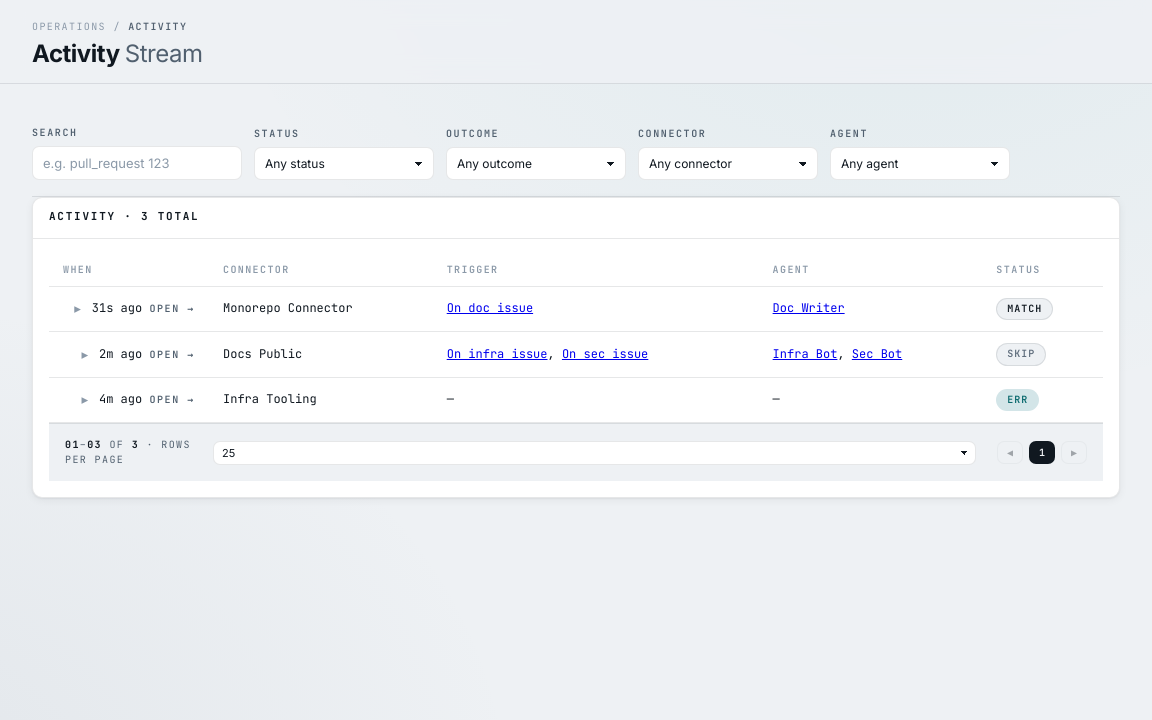
Test: Activity › search is case-insensitive
The width and height of the screenshot is (1152, 720).
Check: the link with aria-label "Open event e1" is shown, box [49, 286, 1103, 332]
Type "PULL_REQUEST" into the field named "search events" at point(137, 163), box [32, 146, 242, 180]
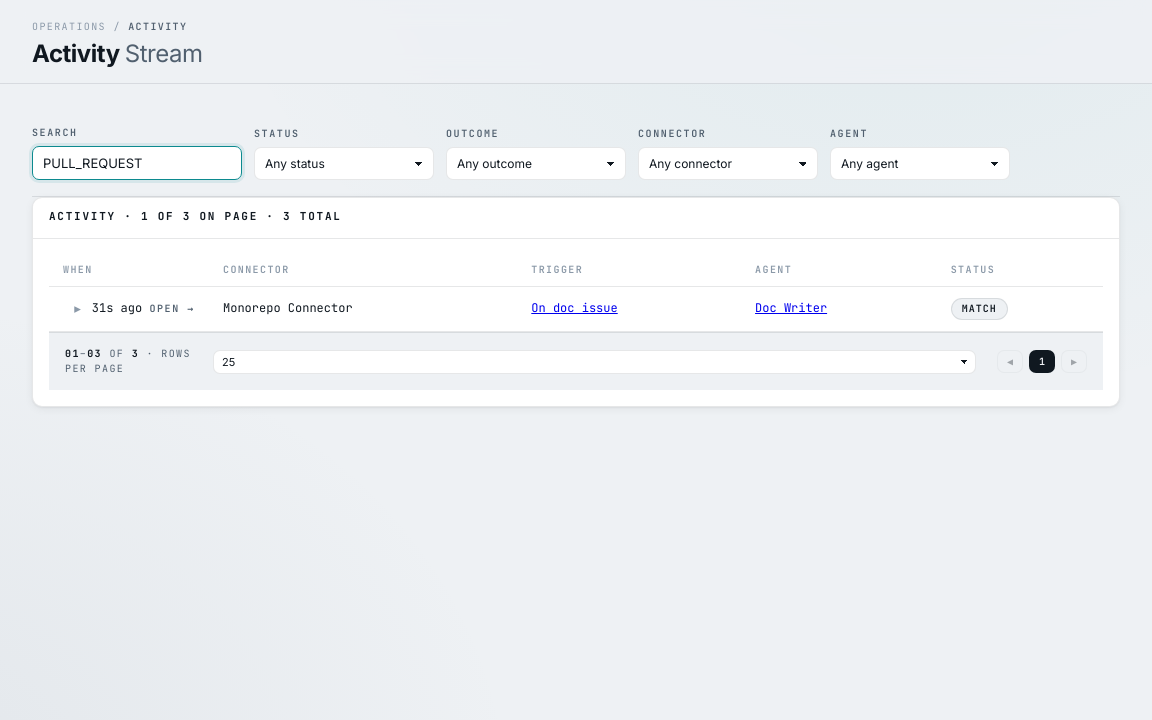
Check: the table shows "Monorepo Connector", box [223, 300, 353, 316]
Check: the link "Infra Tooling" no longer shows "Infra Tooling"
